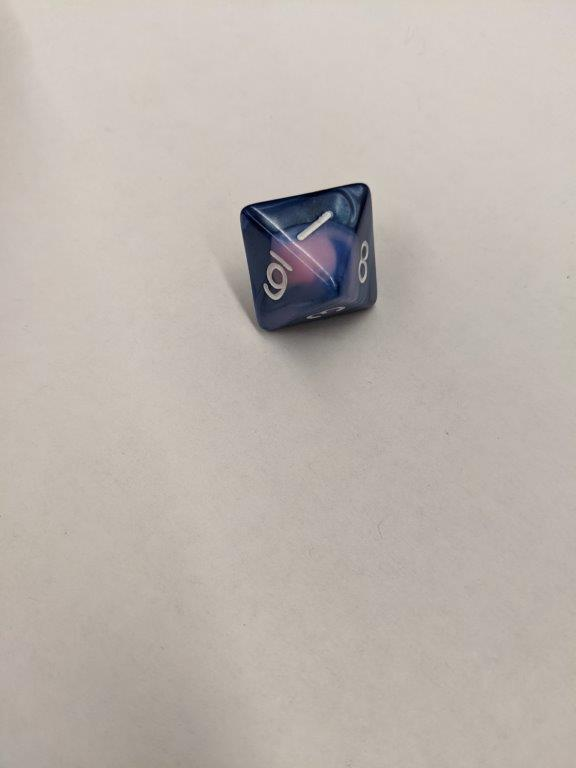d8-1: (240, 182, 380, 334)
